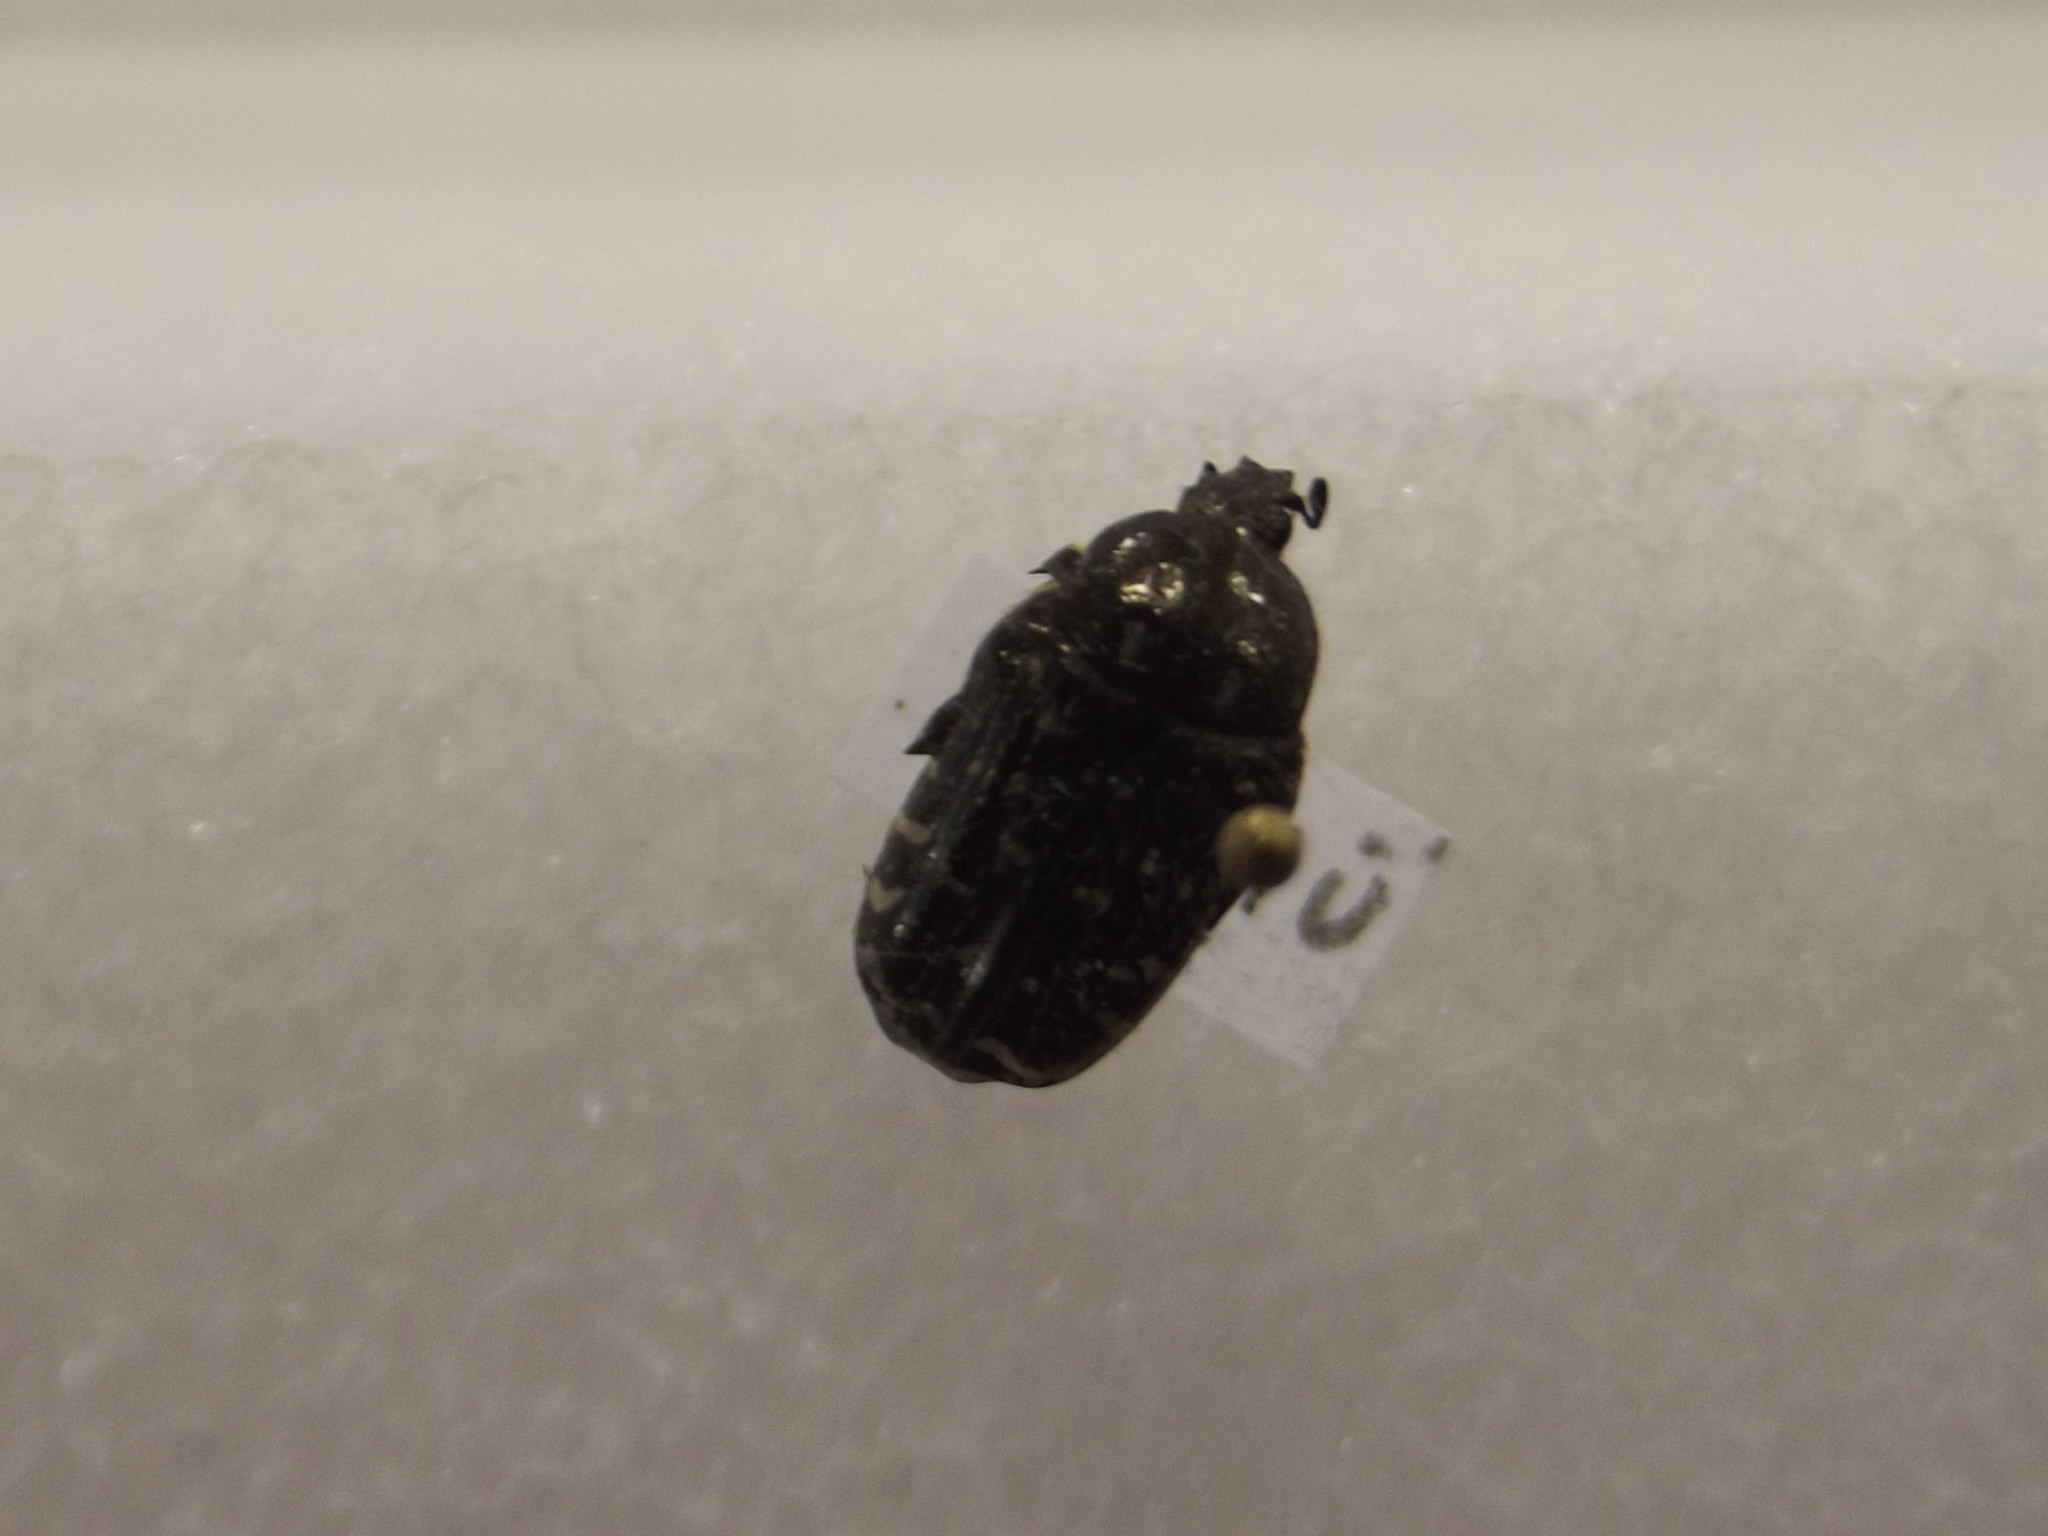Oxythyrea_albopicta: (824, 419, 1317, 1108)
